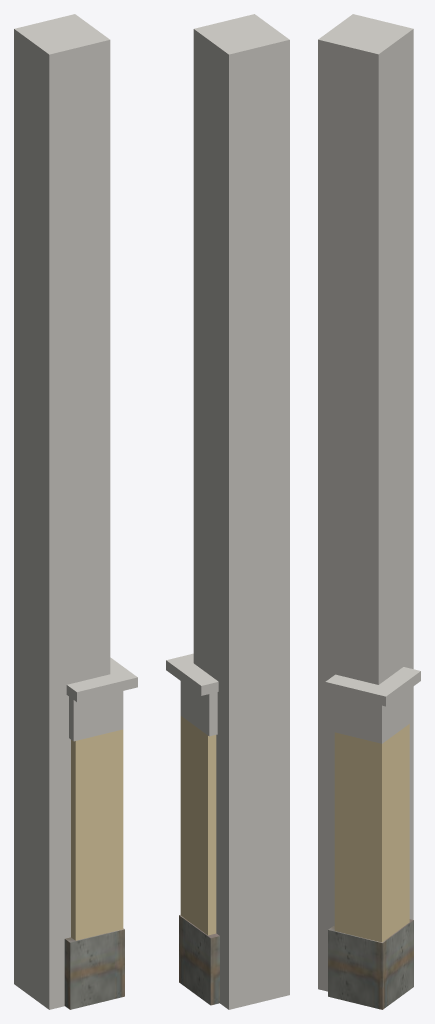
The model's file is corner_g_c.glb.
3 views of the same model, side by side, from view 1: azimuth 30°, elevation 25°; view 2: azimuth 210°, elevation 25°; view 3: azimuth 330°, elevation 25° (orthographic).
Parts seen in each view (by area): view 1: corner_g_c_trim, corner_g_c_acc_c, corner_g_c_plinth; view 2: corner_g_c_trim, corner_g_c_acc_c, corner_g_c_plinth; view 3: corner_g_c_trim, corner_g_c_acc_c, corner_g_c_plinth.
Part boxes in pixels (bbox=[...]): corner_g_c_trim: bbox=[14, 14, 137, 1009]; corner_g_c_acc_c: bbox=[71, 729, 123, 940]; corner_g_c_plinth: bbox=[64, 928, 124, 1009]; corner_g_c_trim: bbox=[166, 14, 289, 1009]; corner_g_c_acc_c: bbox=[180, 716, 216, 935]; corner_g_c_plinth: bbox=[179, 915, 219, 1005]; corner_g_c_trim: bbox=[318, 14, 420, 991]; corner_g_c_acc_c: bbox=[334, 724, 409, 942]; corner_g_c_plinth: bbox=[328, 919, 413, 1009].
Bounding box in the file's own units: 0.386 × 4.49 × 0.386.
3 materials, 1 textured.
